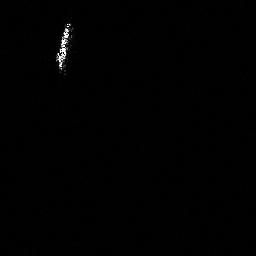ship: (53, 21, 74, 74)
